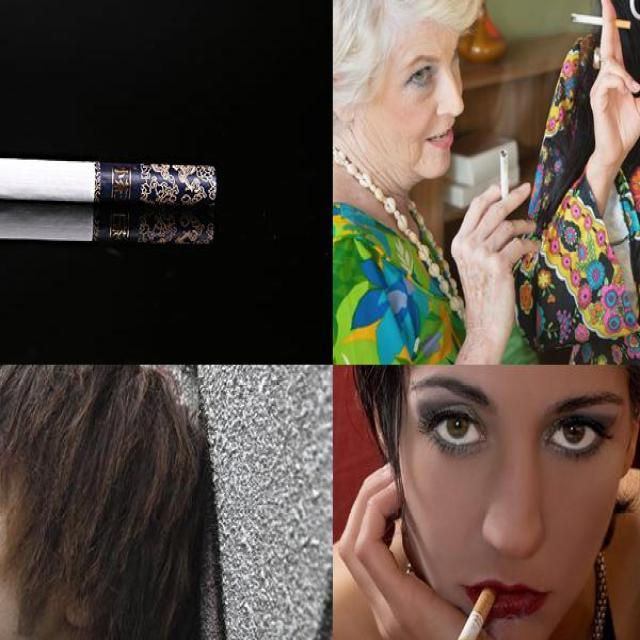smoking: (0, 151, 219, 204), (0, 202, 216, 246), (444, 586, 500, 639), (490, 140, 516, 210), (566, 4, 634, 30)
